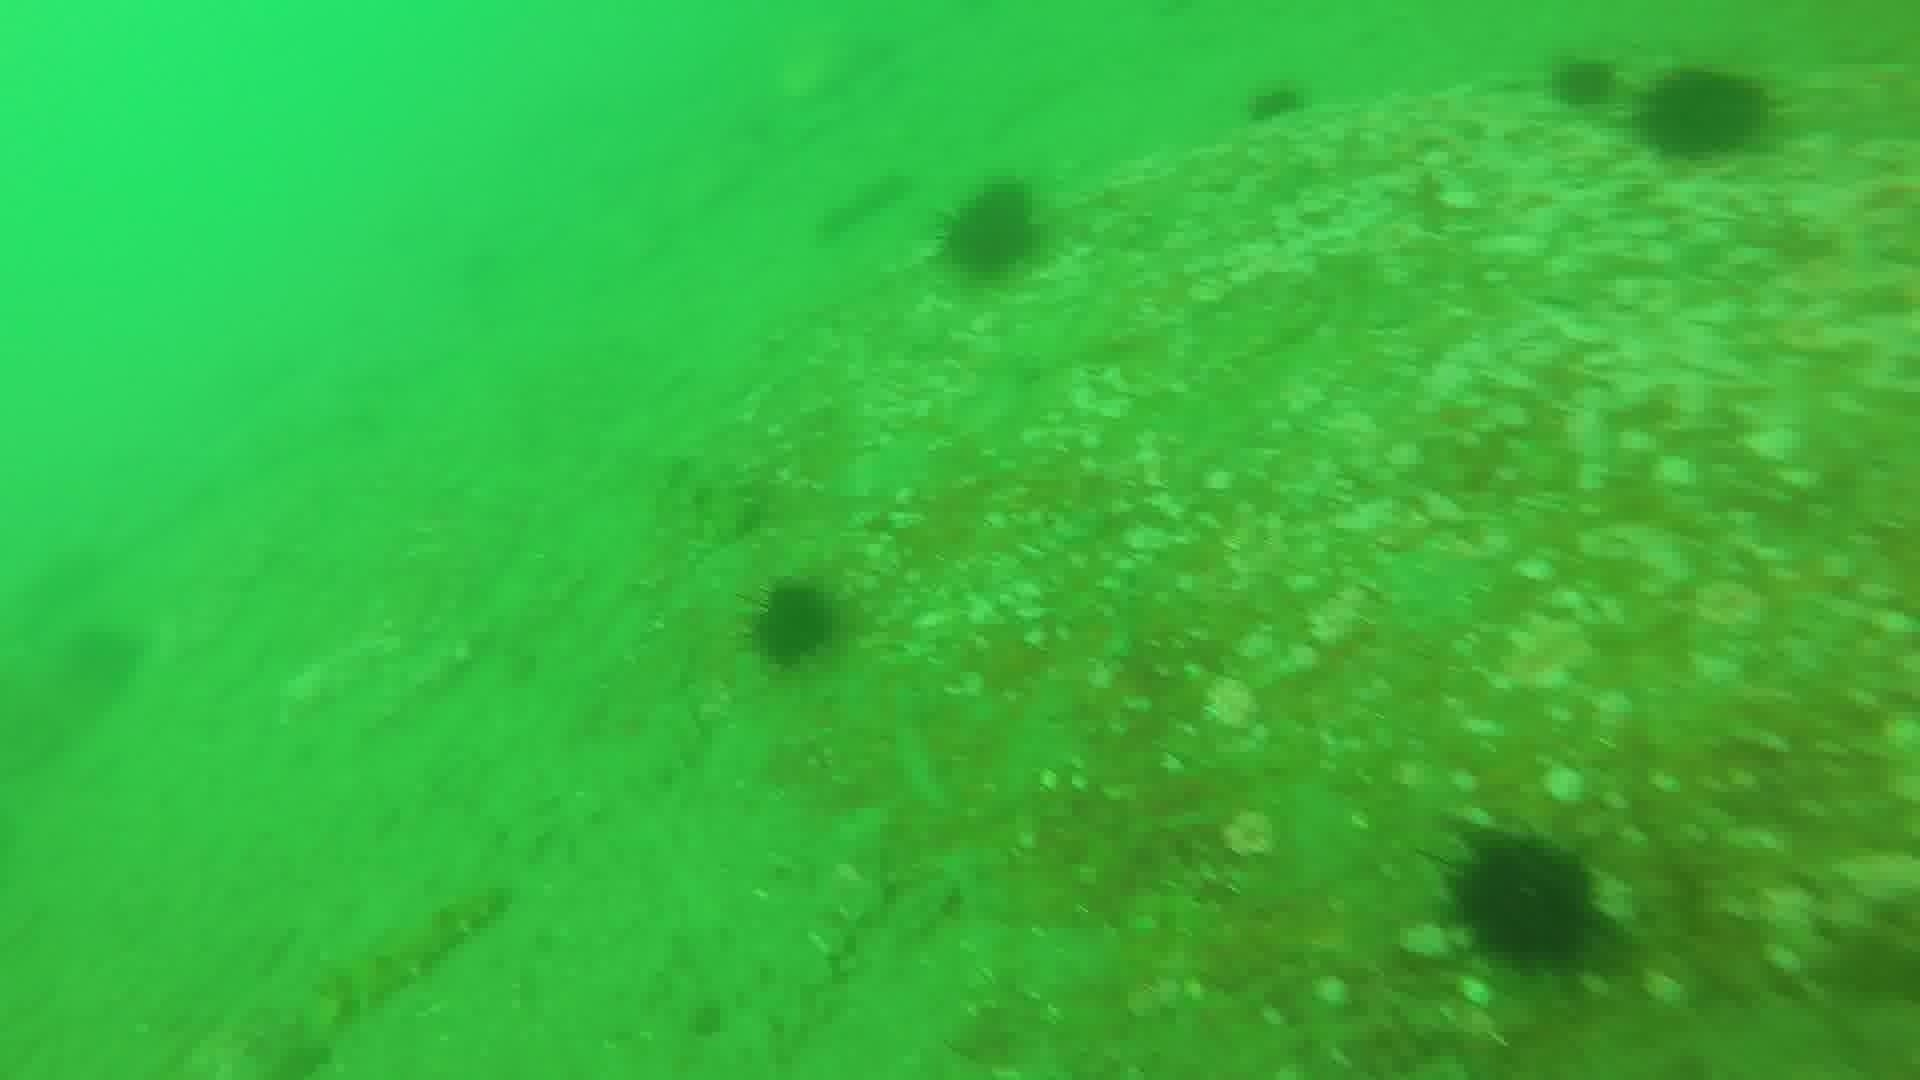echinus: (1443, 829, 1604, 972), (1633, 62, 1774, 167), (932, 175, 1048, 286), (742, 576, 844, 673), (1545, 50, 1622, 113), (1240, 74, 1312, 131)
holothurian: (297, 874, 512, 1030)
